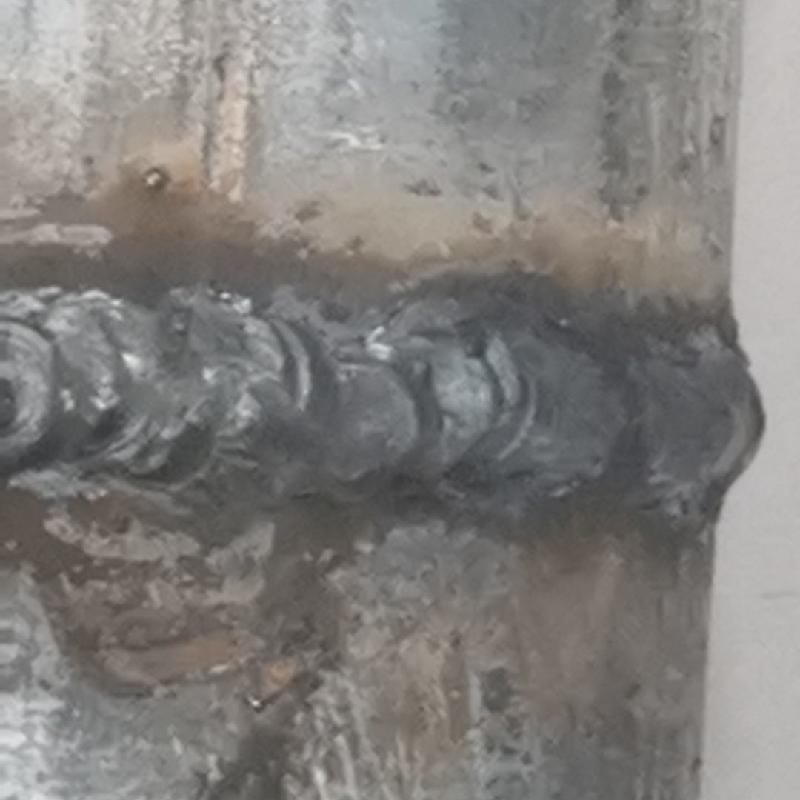good: (0, 268, 769, 548)
